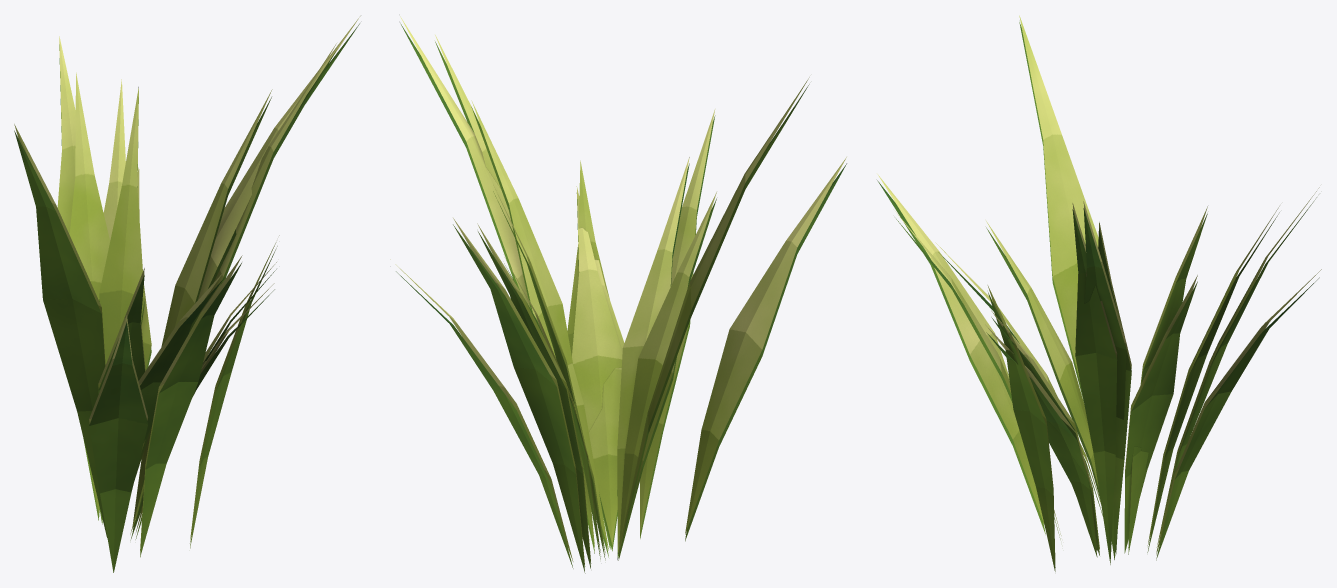
File: Env_GrassTuft_2.glb
The picture shows the model from 3 angles, left to right: view 1: azimuth 30°, elevation 25°; view 2: azimuth 150°, elevation 25°; view 3: azimuth 270°, elevation 25°; orthographic projection. The views are drawn at different scales.
Parts seen in each view (by area): view 1: Env_GrassTuft_2.001; view 2: Env_GrassTuft_2.001; view 3: Env_GrassTuft_2.001.
Part boxes in pixels (x1,y1,x2,y2): Env_GrassTuft_2.001: [14, 16, 360, 572]; Env_GrassTuft_2.001: [390, 16, 846, 573]; Env_GrassTuft_2.001: [877, 15, 1321, 571].
Bounding box in the file's own units: 1.8 × 2.2 × 1.9.
Materials: 1 (1 with a texture image).
